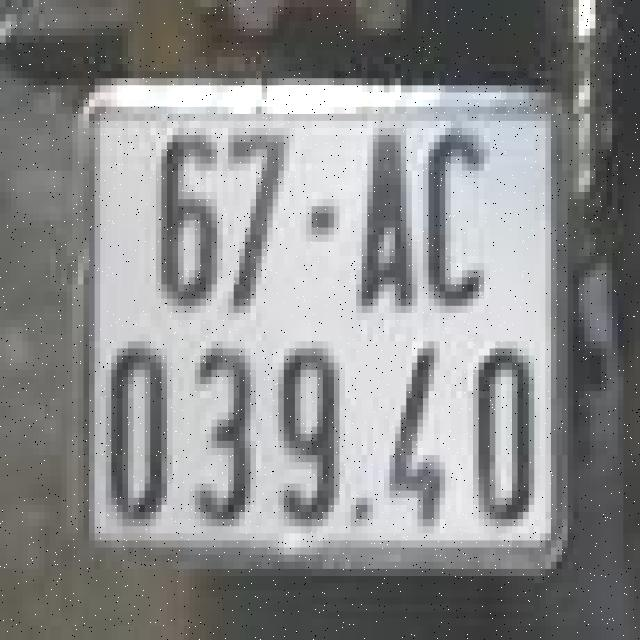0: (94, 313, 184, 533), (462, 334, 545, 534)
3: (189, 334, 256, 534)
4: (378, 323, 451, 530)
6: (144, 114, 222, 320)
7: (225, 117, 292, 331)
9: (270, 331, 348, 537)
A: (357, 107, 418, 341)
C: (418, 110, 496, 316)
